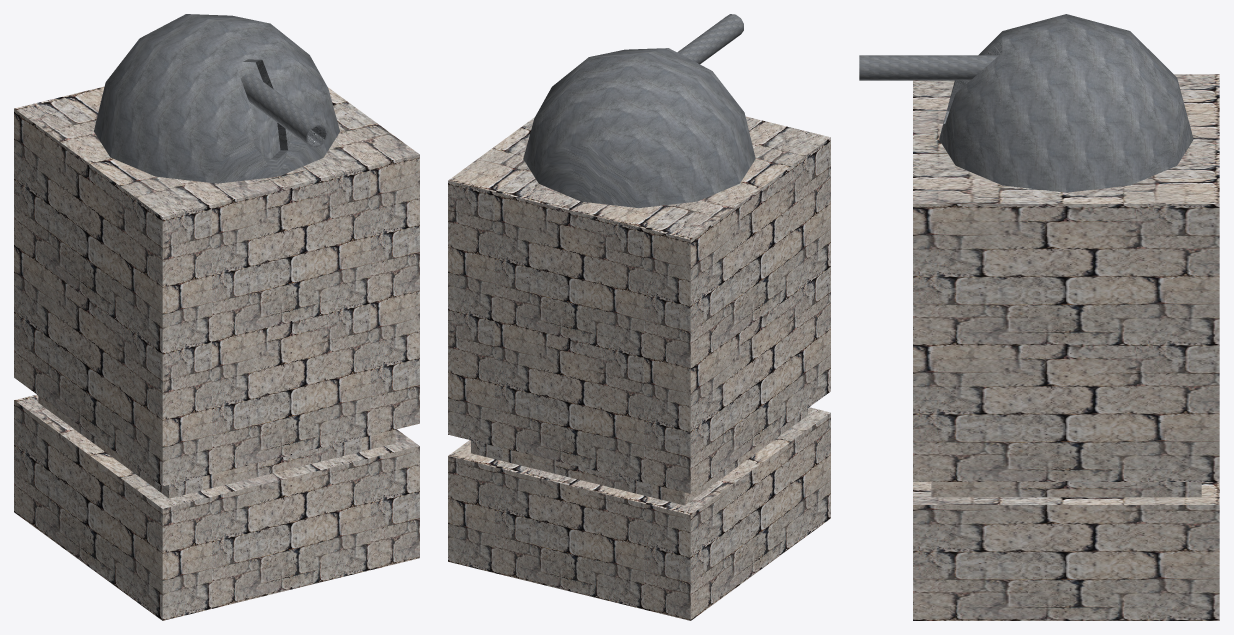
File: Tower.FBX
3 views of the same model, side by side, from view 1: azimuth 30°, elevation 25°; view 2: azimuth 150°, elevation 25°; view 3: azimuth 270°, elevation 25° (orthographic). The views are drawn at different scales.
Visible parts, largest first — view 1: Box02, Sphere01, Cylinder01; view 2: Box02, Sphere01, Cylinder01; view 3: Box02, Sphere01, Cylinder01.
Part boxes in pixels (x1=…): Box02: x1=14, y1=86, x2=419, y2=620; Sphere01: x1=94, y1=14, x2=339, y2=183; Cylinder01: x1=241, y1=73, x2=327, y2=147; Box02: x1=448, y1=116, x2=830, y2=620; Sphere01: x1=523, y1=48, x2=755, y2=207; Cylinder01: x1=677, y1=14, x2=743, y2=64; Box02: x1=913, y1=74, x2=1219, y2=620; Sphere01: x1=939, y1=14, x2=1193, y2=192; Cylinder01: x1=859, y1=55, x2=998, y2=80.
Size of the model in its own units: 149 by 284 by 175.
